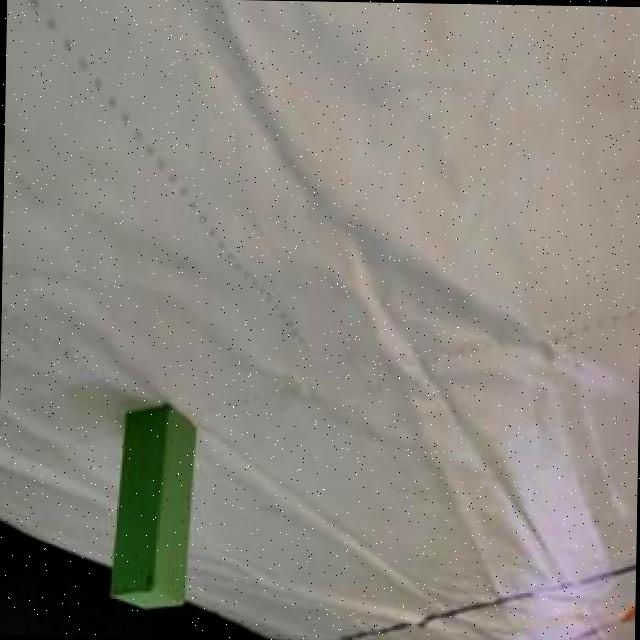greenbox: (109, 398, 200, 610)
